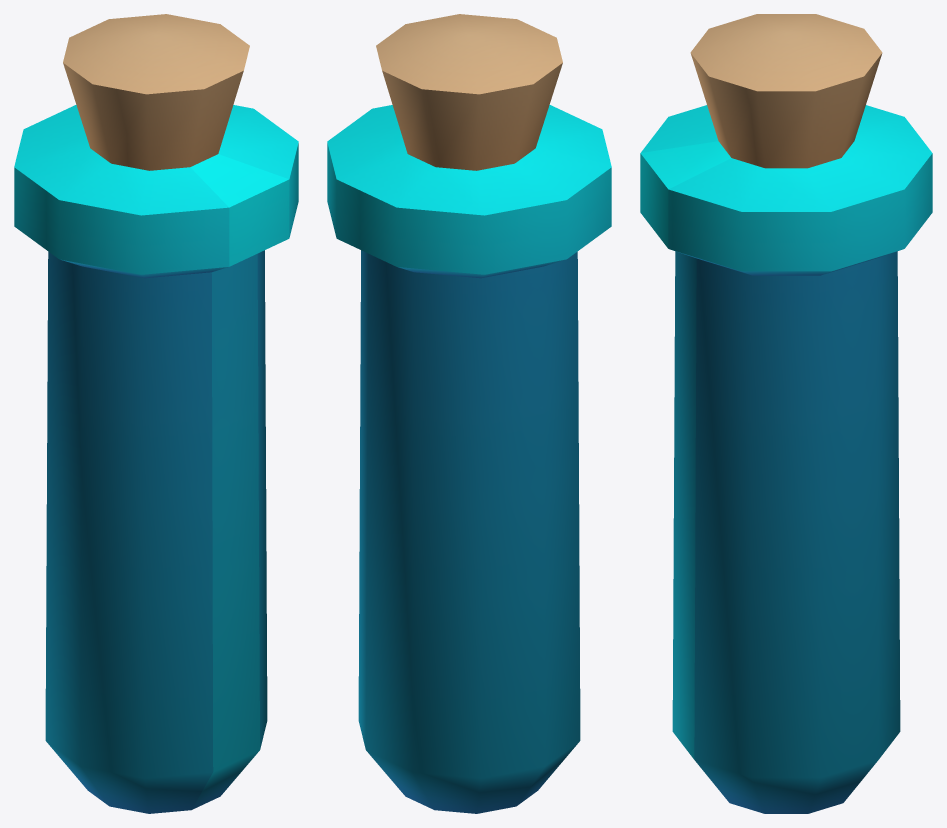
File: potion_small_blue.gltf
3 views of the same model, side by side, from view 1: azimuth 30°, elevation 25°; view 2: azimuth 150°, elevation 25°; view 3: azimuth 270°, elevation 25° (orthographic).
Visible parts, largest first — view 1: potion_small_blue; view 2: potion_small_blue; view 3: potion_small_blue.
Boxes of the visible parts, x1,y1,x2,y2 form: potion_small_blue: [14, 14, 298, 813]; potion_small_blue: [327, 14, 611, 813]; potion_small_blue: [640, 14, 932, 813].
Size of the model in its own units: 0.1512 by 0.464 by 0.1589.
1 material, 1 textured.
